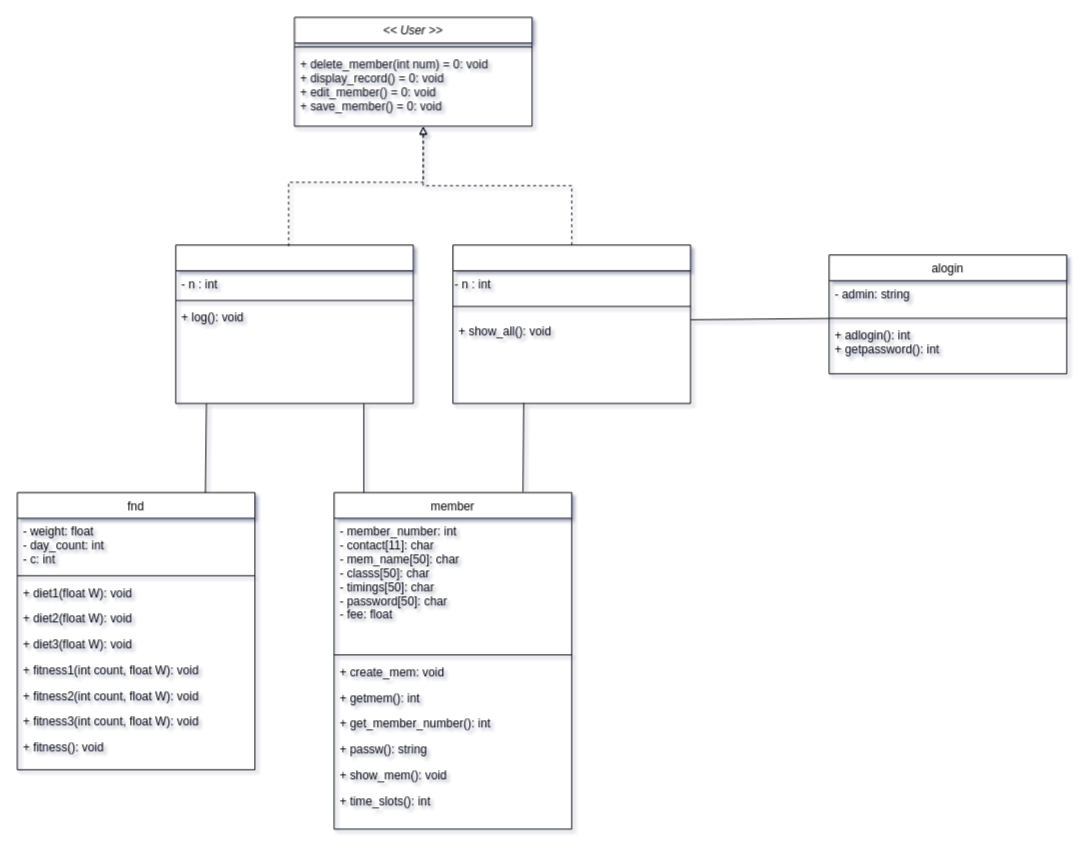
Image size: 1090x852. Some labels were removed from this diagram. Each missing label, with the box of its shape:
admin: (452, 244, 691, 403)
gymmember: (175, 244, 413, 403)
